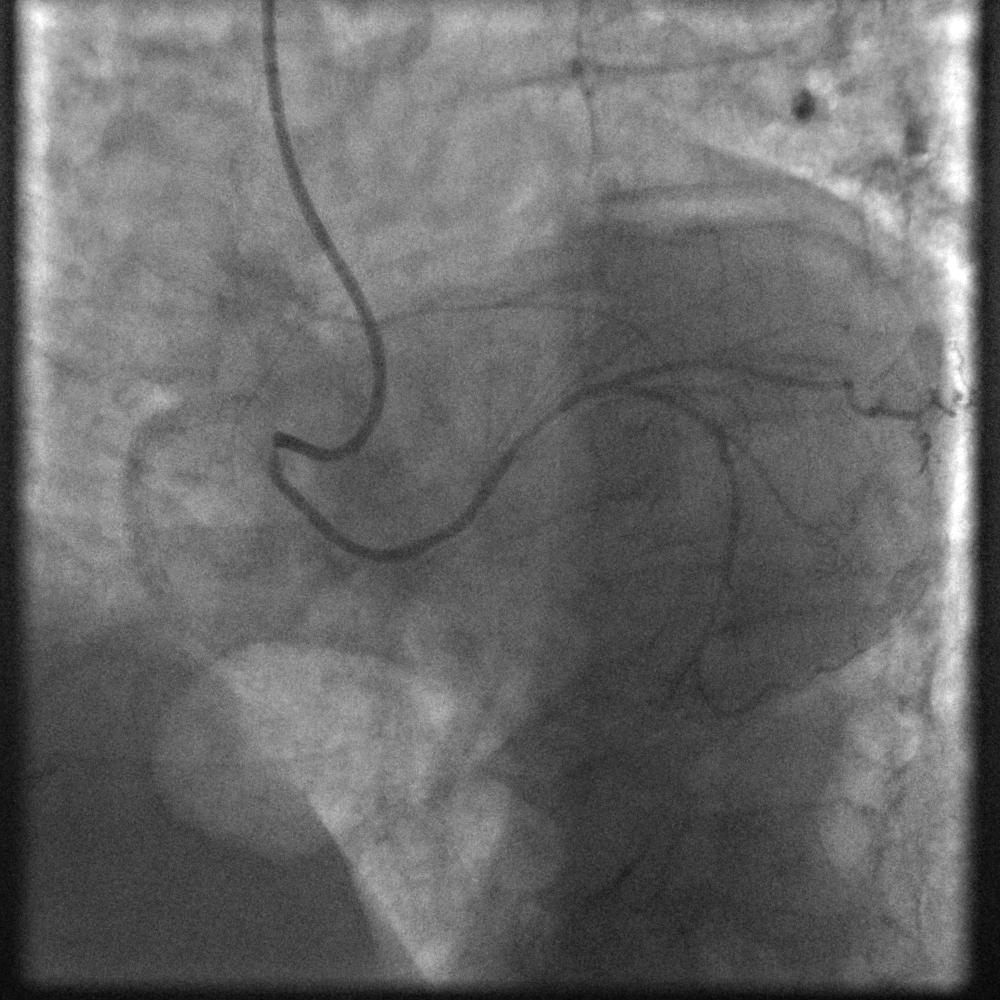Stenosis: (515, 398, 566, 450)
